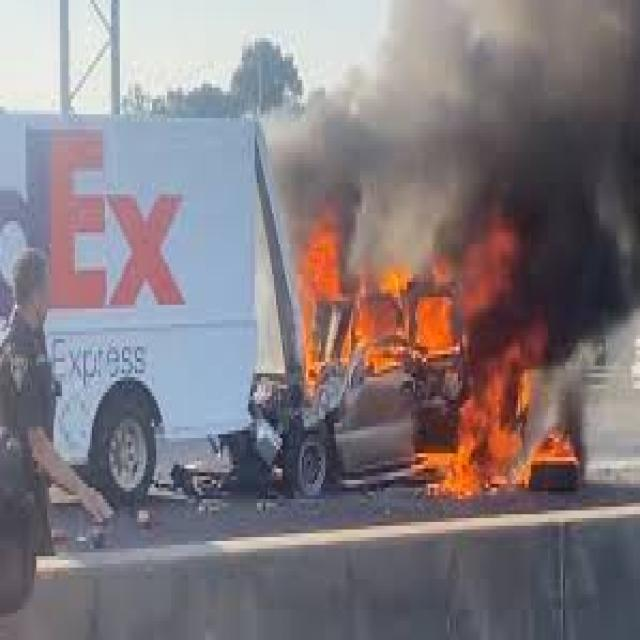fire: (298, 240, 586, 499)
smoke: (272, 8, 640, 240), (586, 232, 640, 358)
